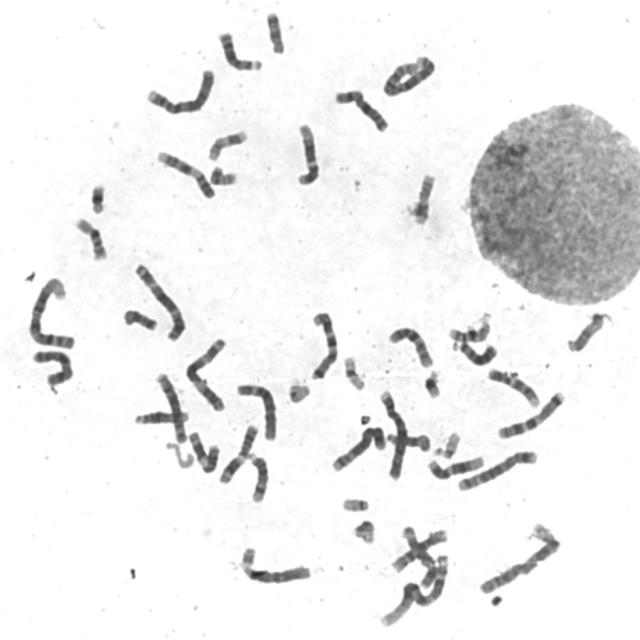A1: (376, 550, 451, 629), (24, 271, 77, 351)
A2: (474, 521, 563, 596), (379, 50, 438, 98)
A3: (130, 258, 188, 344), (181, 332, 229, 413)
B4: (142, 63, 218, 117), (374, 386, 410, 482)
B5: (454, 446, 539, 492), (328, 421, 389, 473)
C10: (384, 321, 436, 370), (388, 530, 449, 570)
C11: (215, 419, 260, 485), (184, 426, 221, 474)
C12: (291, 118, 322, 186), (424, 450, 486, 481)
C6: (236, 541, 314, 587), (232, 378, 279, 442)
C7: (493, 386, 568, 440), (306, 306, 340, 381)
C8: (150, 367, 189, 445), (398, 521, 437, 589)
C9: (153, 145, 217, 201), (484, 362, 543, 410)
D13: (215, 26, 264, 72), (448, 337, 500, 368)
D14: (243, 447, 270, 504), (130, 405, 190, 427)
D15: (564, 309, 609, 354), (383, 427, 432, 453)
E16: (71, 212, 109, 262), (444, 311, 494, 344)
E17: (408, 167, 438, 227), (204, 125, 250, 163)
E18: (262, 5, 288, 56), (119, 303, 160, 333)
F19: (340, 352, 368, 392), (352, 520, 376, 546)
F20: (206, 161, 240, 188), (286, 375, 314, 407)
G21: (85, 178, 108, 215), (420, 366, 443, 400)
G22: (430, 427, 463, 459), (336, 496, 372, 513)
X: (330, 84, 390, 134), (27, 344, 76, 388)
